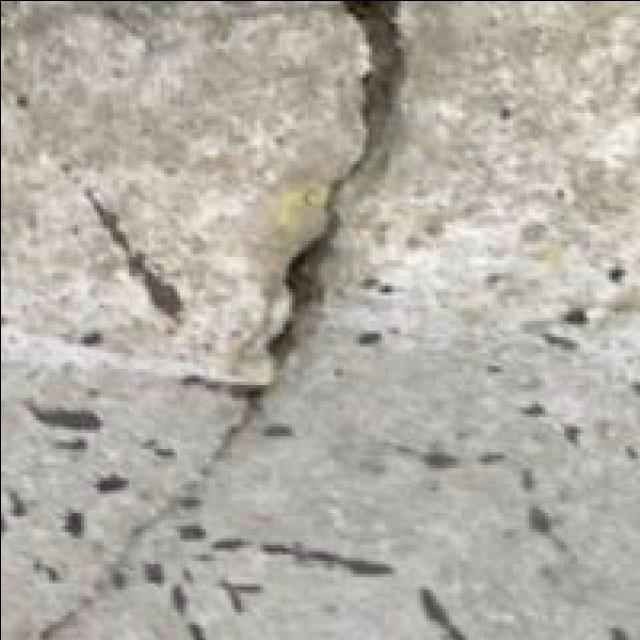SurfaceCrack: (186, 0, 430, 484)
